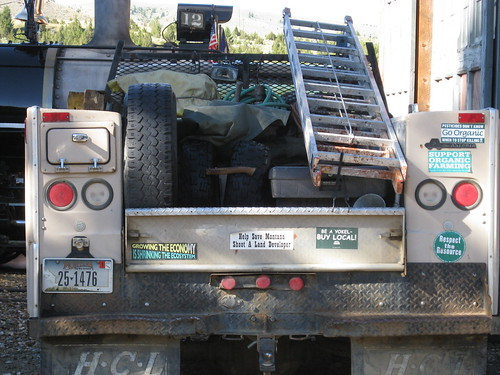truck: (24, 48, 491, 374)
